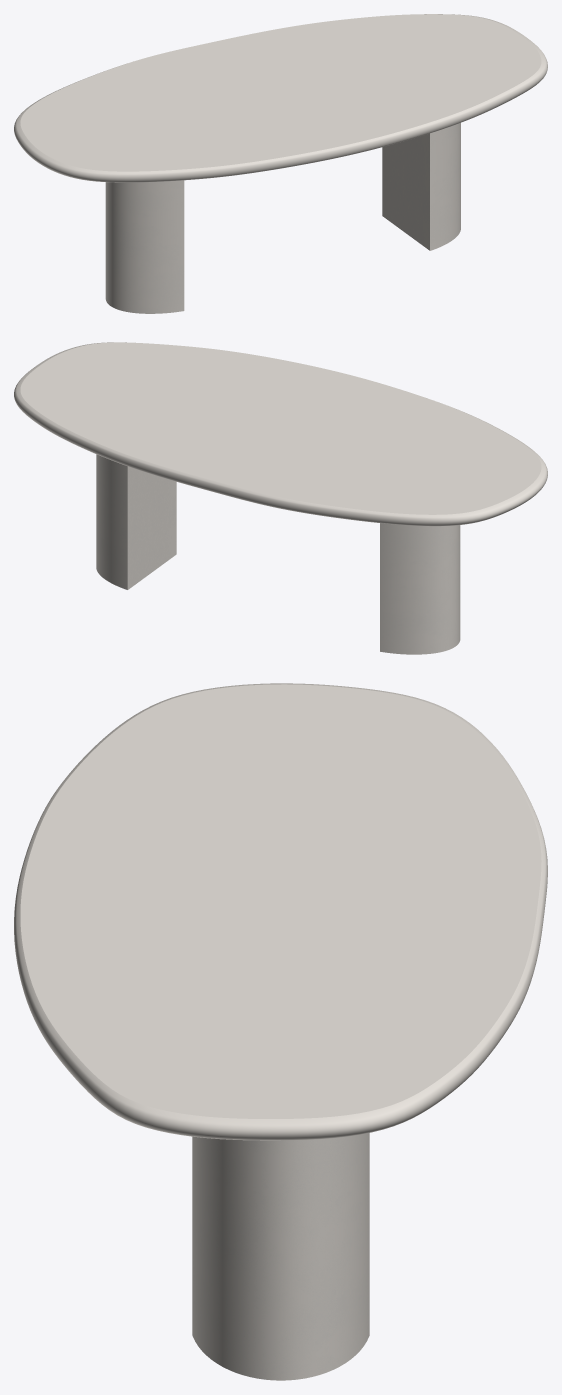
Rendered from pearlwhite_danish_round_hillside.glb.
3 views of the same model, one above another, from view 1: azimuth 30°, elevation 25°; view 2: azimuth 150°, elevation 25°; view 3: azimuth 270°, elevation 25° (orthographic). The views are drawn at different scales.
Parts seen in each view (by area): view 1: round_danish, hillside; view 2: round_danish, hillside; view 3: round_danish, hillside.
Part boxes in pixels (<box>): round_danish: <box>14,14,547,182</box>; hillside: <box>105,123,460,313</box>; round_danish: <box>14,342,547,526</box>; hillside: <box>96,454,460,654</box>; round_danish: <box>14,683,547,1140</box>; hillside: <box>192,1133,369,1380</box>.
Size of the model in its own units: 7.5 by 2.5 by 3.8.
Materials: 1 (1 with a texture image).
